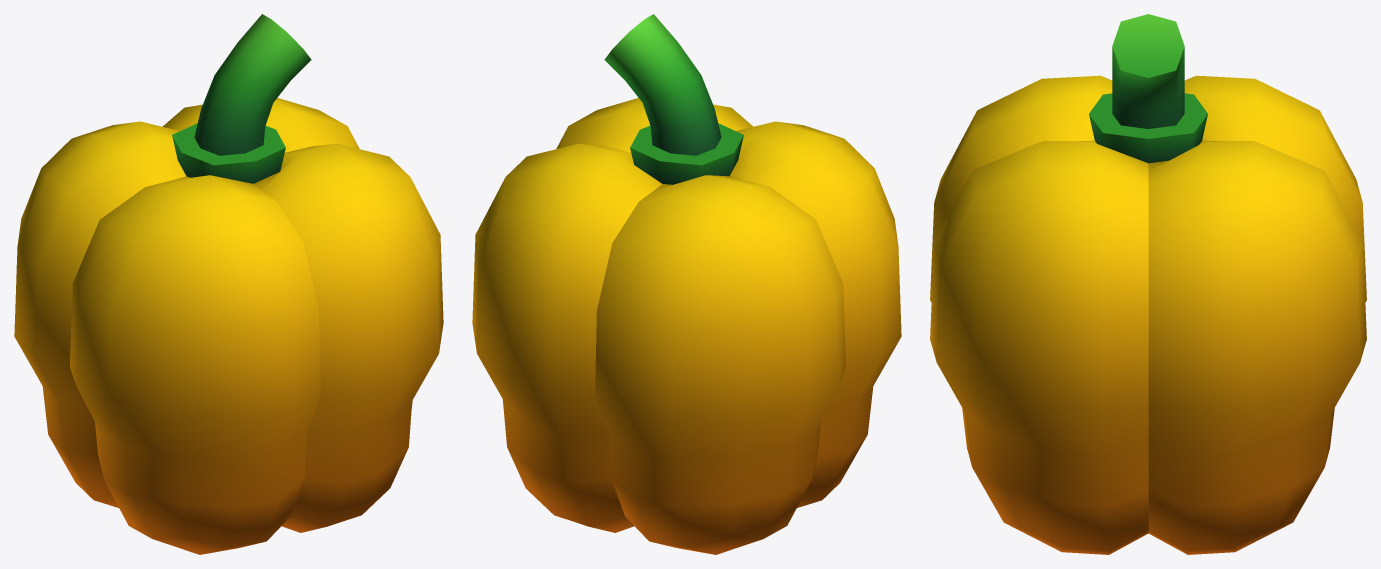
Rendered from Bell_Pepper_02.glb.
The picture shows the model from 3 angles, left to right: view 1: azimuth 30°, elevation 25°; view 2: azimuth 150°, elevation 25°; view 3: azimuth 270°, elevation 25°; orthographic projection. The views are drawn at different scales.
Parts seen in each view (by area): view 1: Bell_Pepper_02; view 2: Bell_Pepper_02; view 3: Bell_Pepper_02.
Boxes of the visible parts, x1=… form: Bell_Pepper_02: x1=14, y1=14, x2=443, y2=554; Bell_Pepper_02: x1=472, y1=14, x2=901, y2=554; Bell_Pepper_02: x1=930, y1=14, x2=1366, y2=554.
Bounding box in the file's own units: 0.2682 × 0.3577 × 0.2682.
1 material, 1 textured.
